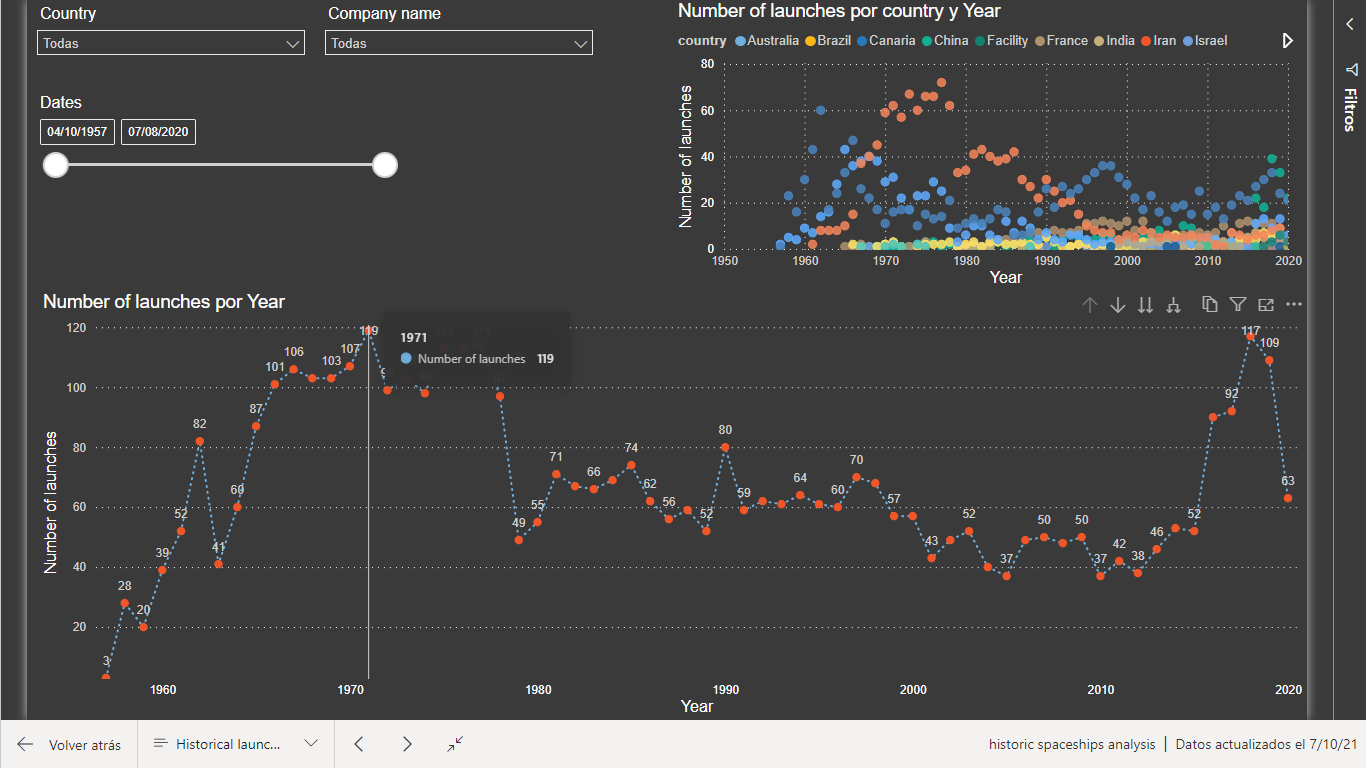

This screenshot's page, from the dashboard's own definition file:
{"tool":"powerbi","page":{"name":"Historical launches.","canvas":[1280,720],"ordinal":2},"visuals":[{"type":"lineChart","fields":{"Category":["ships_data_clean.dates.Variation.Date Hierarchy.Year","ships_data_clean.dates.Variation.Date Hierarchy.Month"],"Y":["_Measures._Number of Launches"]},"box":[10.7,290.8,1269.3,428.9],"z":0},{"type":"scatterChart","fields":{"X":["ships_data_clean.dates.Variation.Date Hierarchy.Year"],"Series":["ships_data_clean.country"],"Y":["_Measures._Number of Launches"]},"box":[570.9,34.1,633.4,291.1],"z":1000},{"type":"slicer","fields":{"Values":["ships_data_clean.company name"]},"box":[288.3,0,237.2,89.5],"z":2000},{"type":"slicer","fields":{"Values":["ships_data_clean.country"]},"box":[0,0,288.5,89.6],"z":3000},{"type":"slicer","fields":{"Values":["ships_data_clean.dates"]},"box":[0,89.4,378.8,235.1],"z":4000},{"type":"image","box":[1204.3,0,75.3,117.9],"z":4001}]}

Visuals, with their boxes on the page's 1280x720 design canvas (x1, y1, x2, y2). These are canvas units, not pixel positions in the 1366x768 screenshot, which may show the page scaled, cropped or inside an application window:
lineChart - ships_data_clean.dates.Variation.Date Hierarchy.Year x ships_data_clean.dates.Variation.Date Hierarchy.Month: 11,291,1280,720
scatterChart - ships_data_clean.dates.Variation.Date Hierarchy.Year x ships_data_clean.country: 571,34,1204,325
slicer - ships_data_clean.company name: 288,0,526,90
slicer - ships_data_clean.country: 0,0,288,90
slicer - ships_data_clean.dates: 0,89,379,324
image: 1204,0,1280,118
